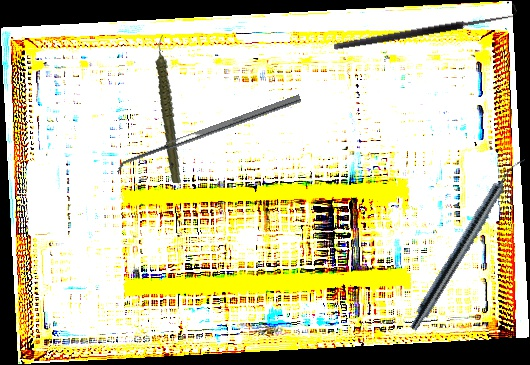Handpiece: (406, 151, 527, 335), (139, 34, 200, 184)
Hook Surgical: (331, 1, 519, 53)
Spatula Surgical: (113, 94, 305, 177)
